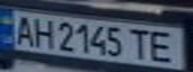1: (72, 21, 90, 54)
2: (54, 19, 75, 53)
4: (87, 22, 109, 56)
5: (106, 24, 127, 58)
A: (9, 12, 36, 46)
E: (145, 28, 187, 65)
H: (30, 16, 57, 50)
T: (127, 26, 154, 61)
